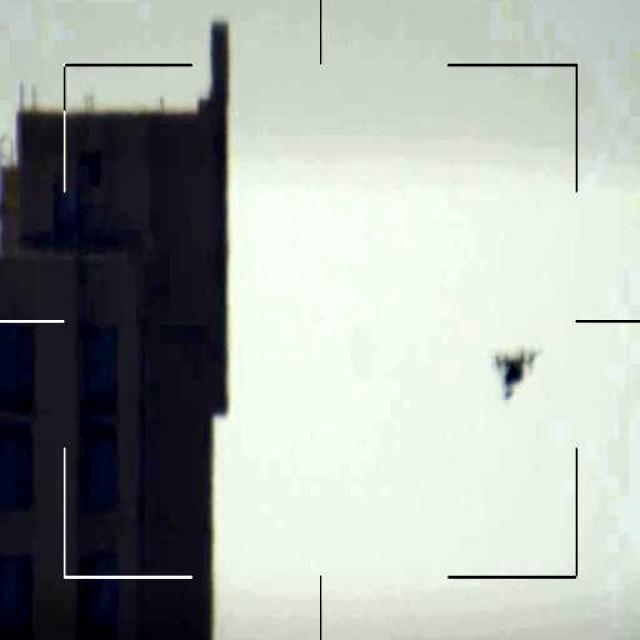bird: (489, 342, 548, 410)
